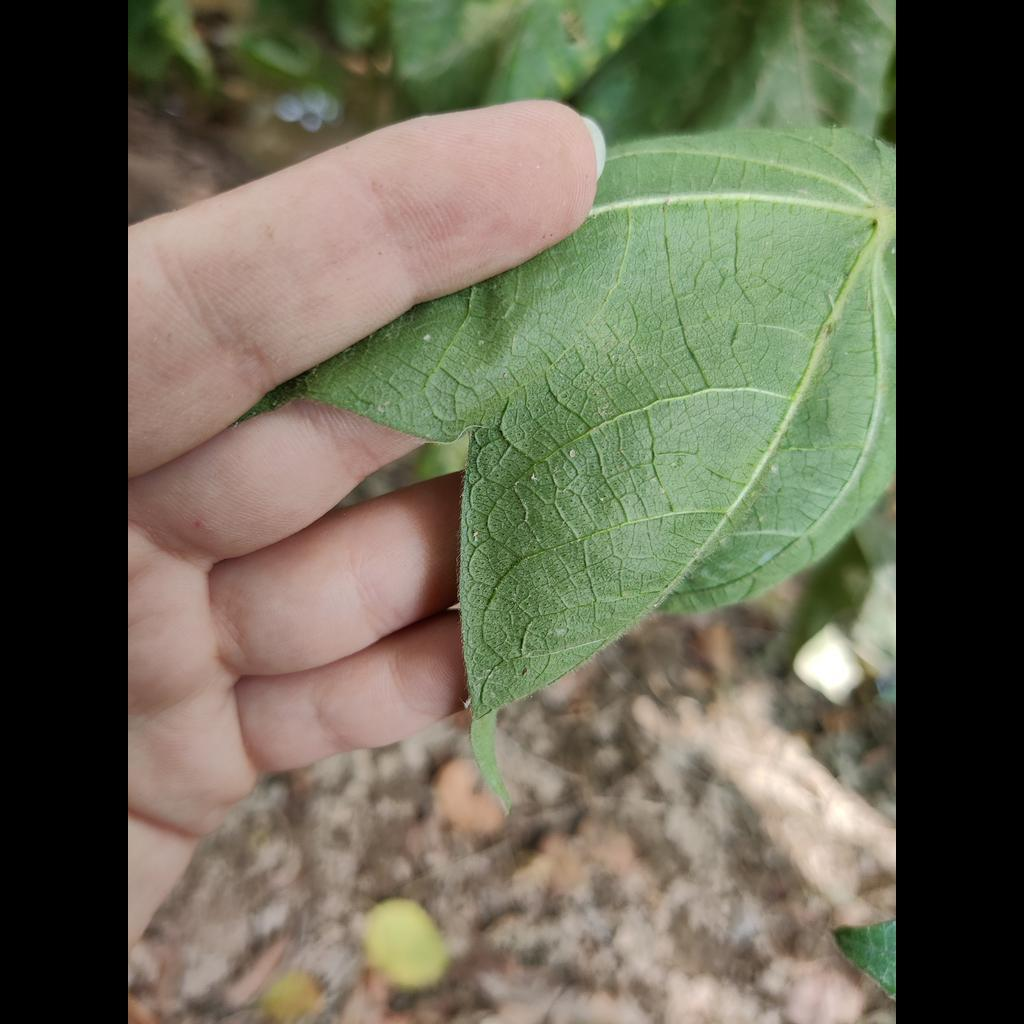nymph: (530, 472, 537, 481), (569, 449, 576, 458), (423, 334, 430, 342), (891, 247, 896, 255), (599, 497, 604, 502), (474, 531, 478, 536), (474, 536, 478, 541)
